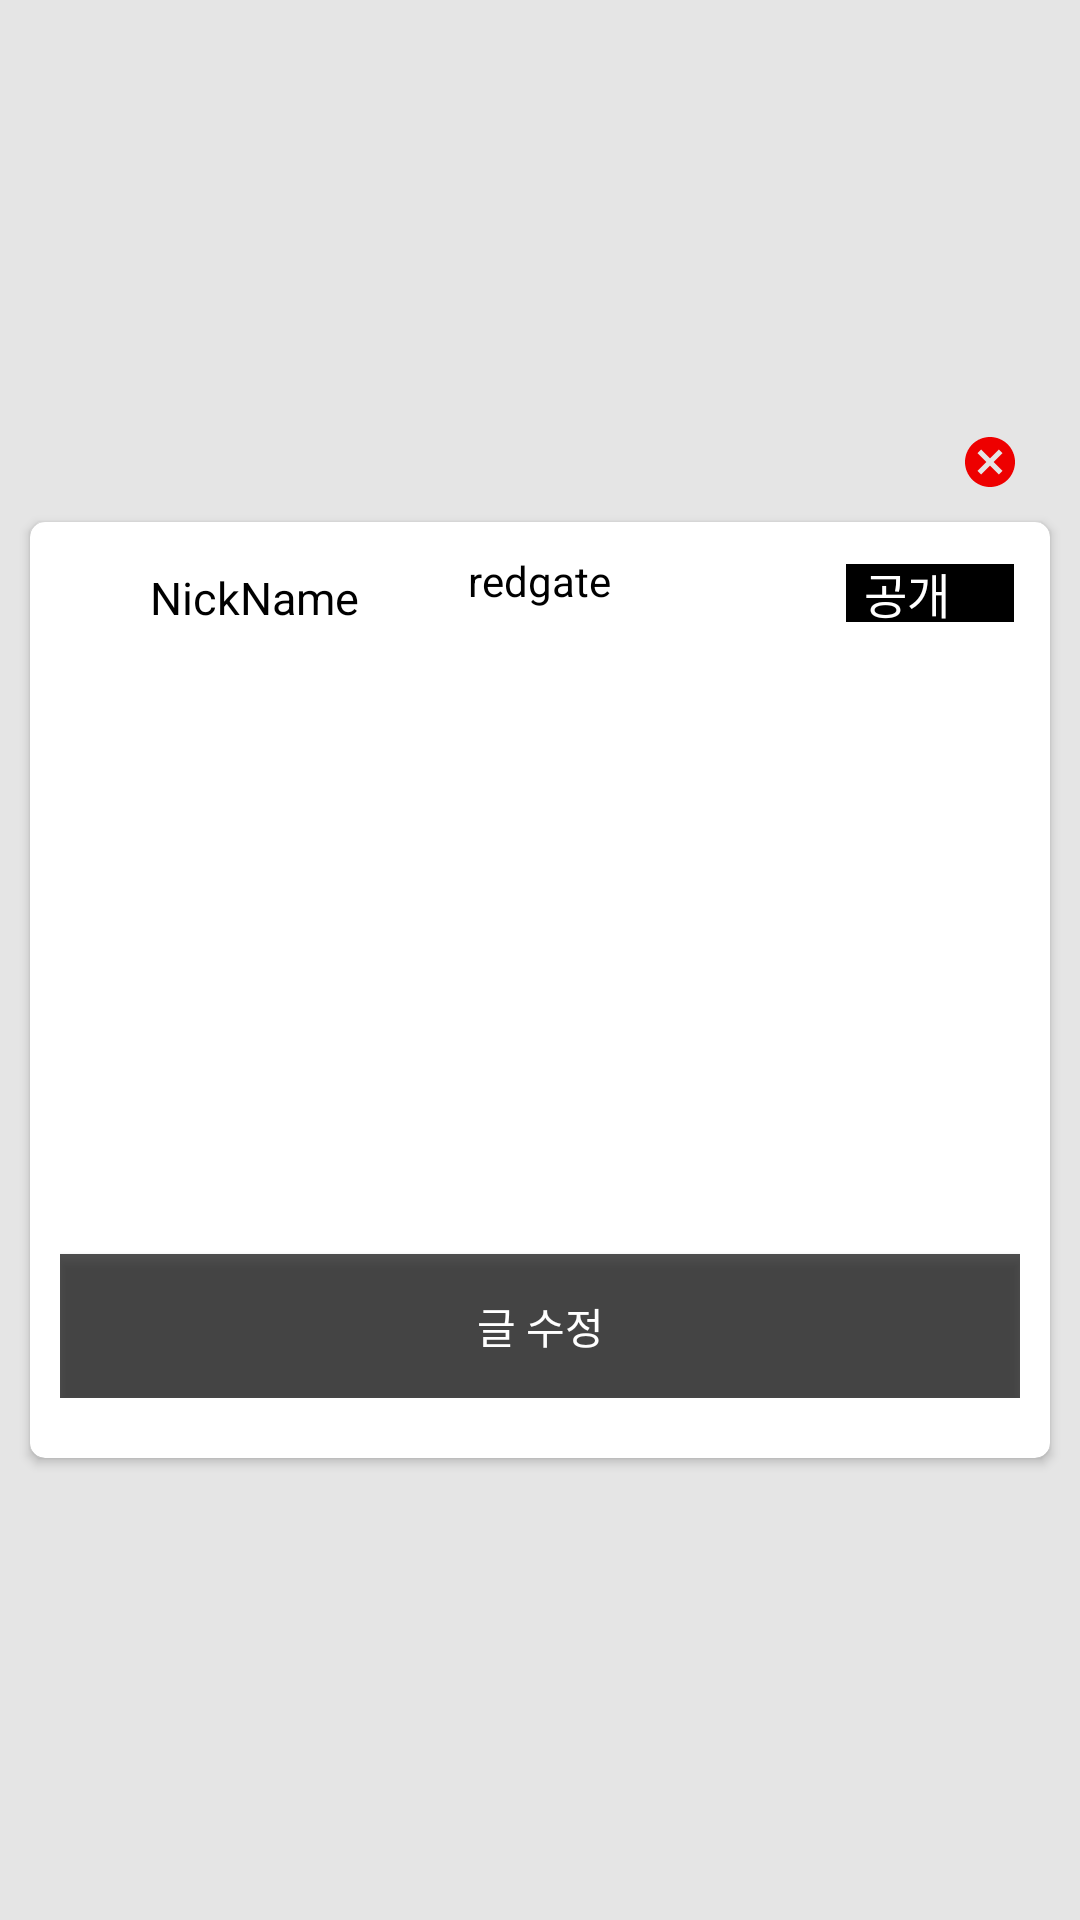

Where to tap for icons on this 1080×1920 app screen, as [x,y]:
cancel: [990,462]
